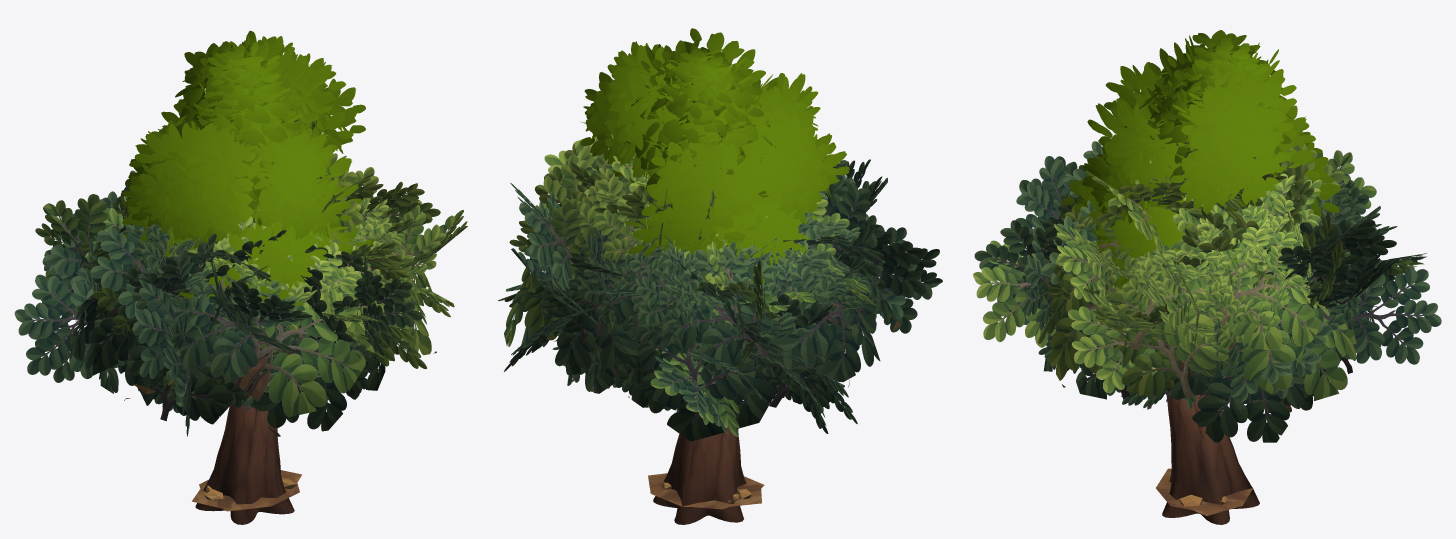
Rendered from comparacao.glb.
The picture shows the model from 3 angles, left to right: view 1: azimuth 30°, elevation 25°; view 2: azimuth 150°, elevation 25°; view 3: azimuth 270°, elevation 25°; orthographic projection. The views are drawn at different scales.
Parts seen in each view (by area): view 1: C_Pacote, C_Atual, C_Telhas, C_EstiloPacote; view 2: C_Pacote, C_Atual, C_EstiloPacote, C_Telhas; view 3: C_Atual, C_Pacote, C_Telhas, C_EstiloPacote.
Part boxes in pixels (<box>): C_Pacote: <box>119,30,385,524</box>; C_Atual: <box>14,118,467,511</box>; C_Telhas: <box>69,211,436,436</box>; C_EstiloPacote: <box>75,167,431,508</box>; C_Pacote: <box>580,28,849,524</box>; C_Atual: <box>498,134,942,509</box>; C_EstiloPacote: <box>524,162,885,506</box>; C_Telhas: <box>504,223,900,441</box>; C_Atual: <box>973,141,1441,509</box>; C_Pacote: <box>1061,30,1340,524</box>; C_Telhas: <box>1004,208,1396,442</box>; C_EstiloPacote: <box>1036,165,1382,515</box>.
Bounding box in the file's own units: 6.07 × 7.27 × 6.5.
Materials: 4 (4 with a texture image).
